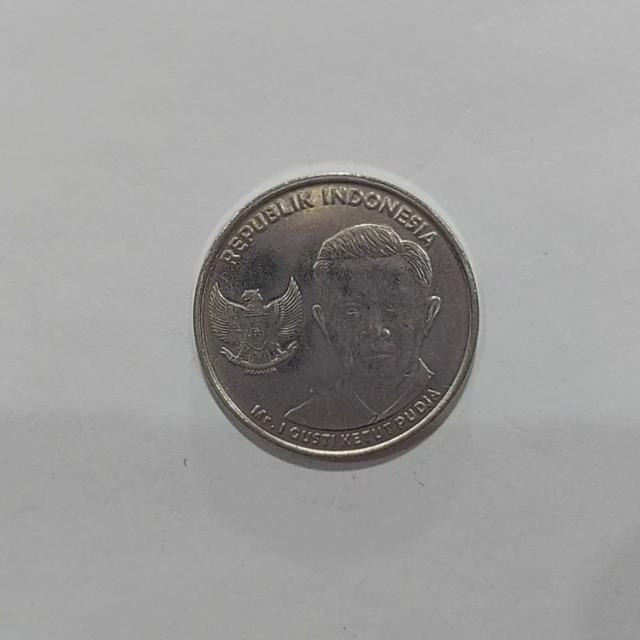Rp100: (191, 170, 481, 467)
